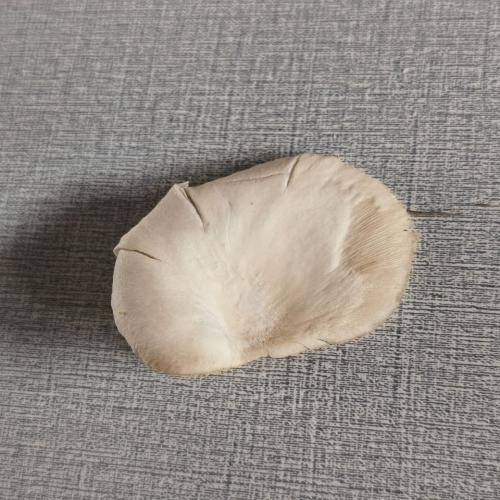Oyster Mushroom: (88, 132, 436, 393)
